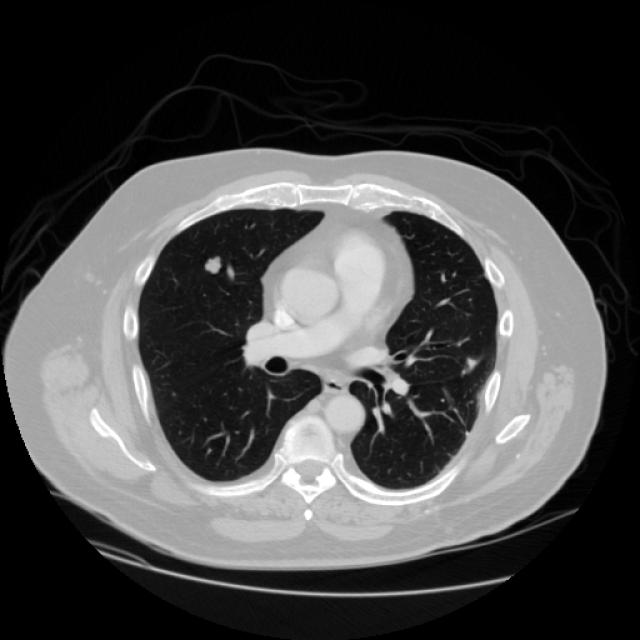nodule: (194, 245, 231, 283)
